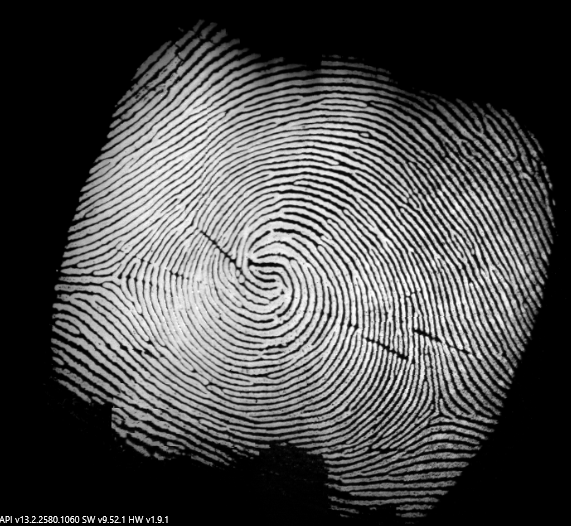deltas: (410, 379, 469, 440), (92, 250, 149, 308)
nucleo: (231, 228, 303, 310)
